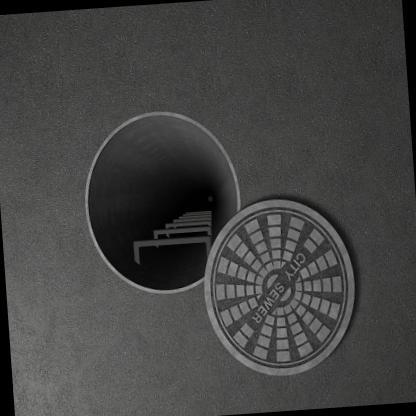manholes: (55, 78, 368, 400)
